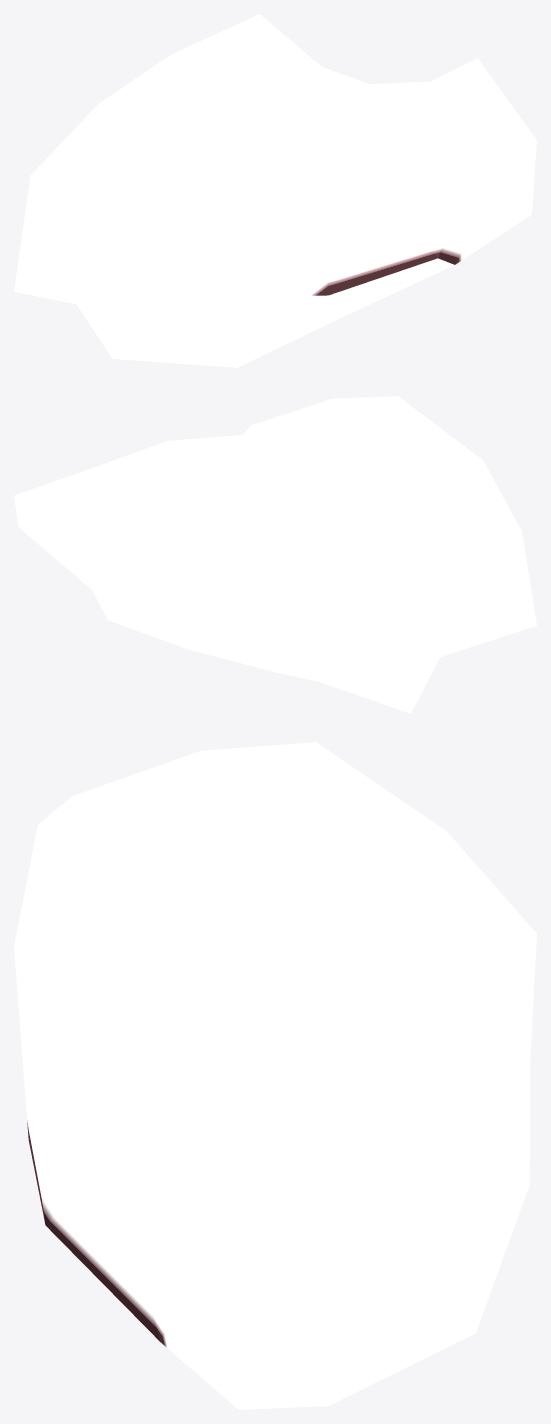
File: cloud-simple.glb
3 renders of one model, top to bottom at view 1: azimuth 30°, elevation 25°; view 2: azimuth 150°, elevation 25°; view 3: azimuth 270°, elevation 25°, orthographic. The views are drawn at different scales.
Parts seen in each view (by area): view 1: cloud-simple; view 2: cloud-simple; view 3: cloud-simple.
Boxes of the visible parts, x1,y1,x2,y2 form: cloud-simple: [14, 14, 536, 367]; cloud-simple: [14, 396, 536, 713]; cloud-simple: [14, 742, 536, 1409].
Bounding box in the file's own units: 4.92 × 2.53 × 2.37.
Materials: 1 (1 with a texture image).
